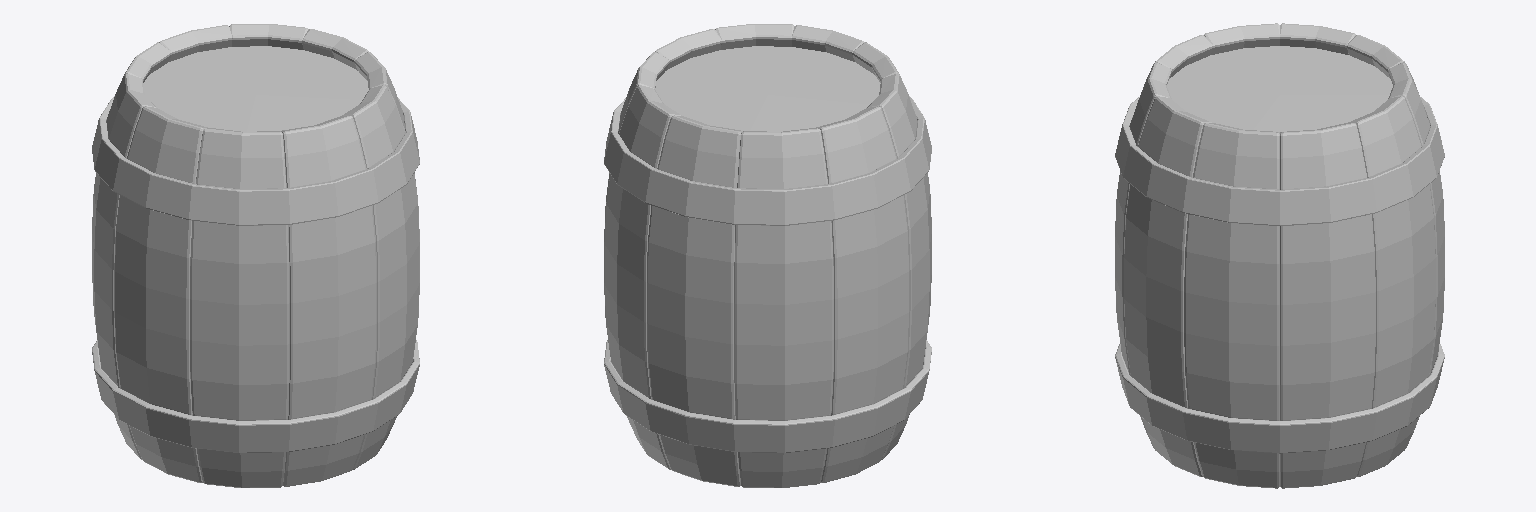
Rendered from barrel.obj.
The picture shows the model from 3 angles: view 1: azimuth 30°, elevation 25°; view 2: azimuth 150°, elevation 25°; view 3: azimuth 270°, elevation 25°; orthographic projection.
Visible parts, largest first — view 1: barrel; view 2: barrel; view 3: barrel.
Part boxes in pixels (x1,y1,x2,y2): barrel: (92, 24, 419, 487); barrel: (604, 24, 931, 487); barrel: (1115, 23, 1444, 488).
Size of the model in its own units: 3.48 by 4.13 by 3.48.